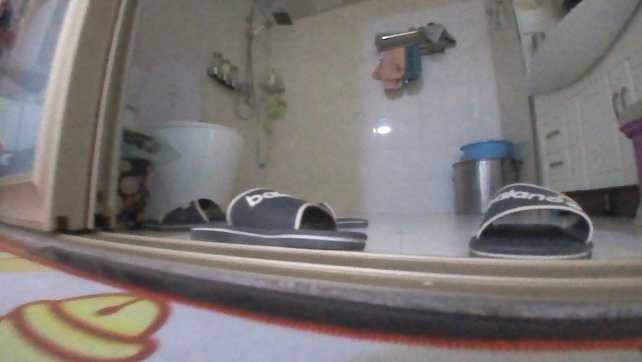door_sill: (49, 224, 640, 341)
slipper: (190, 182, 370, 253), (466, 180, 591, 262), (139, 198, 227, 233)
toilet: (136, 60, 240, 220)
